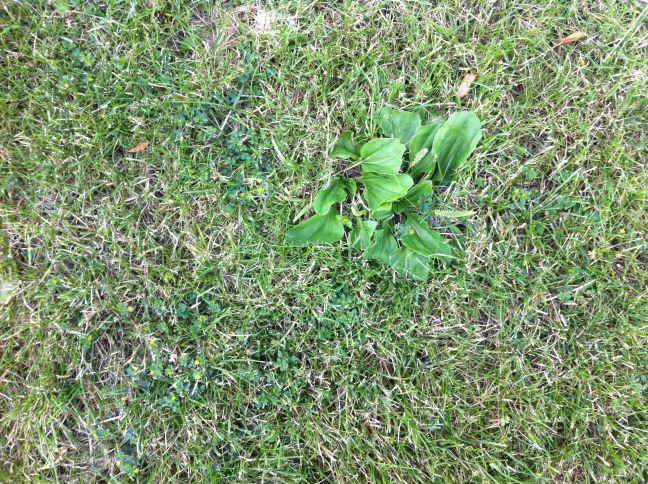weed1: (290, 104, 485, 283)
